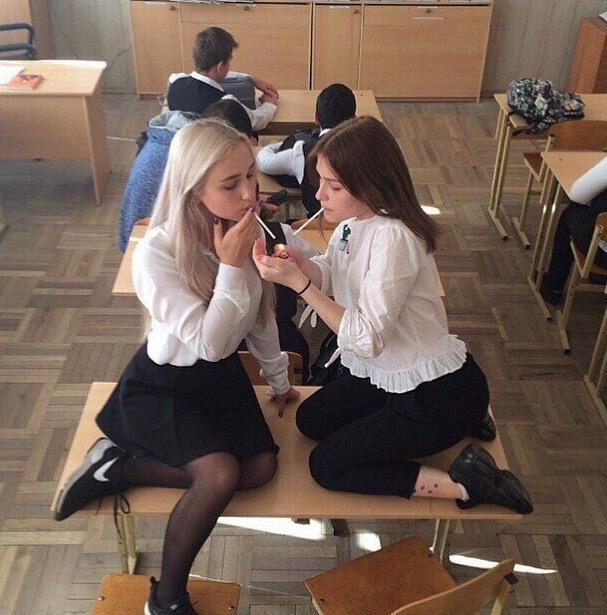cigarette: (293, 208, 325, 236), (254, 213, 277, 240)
